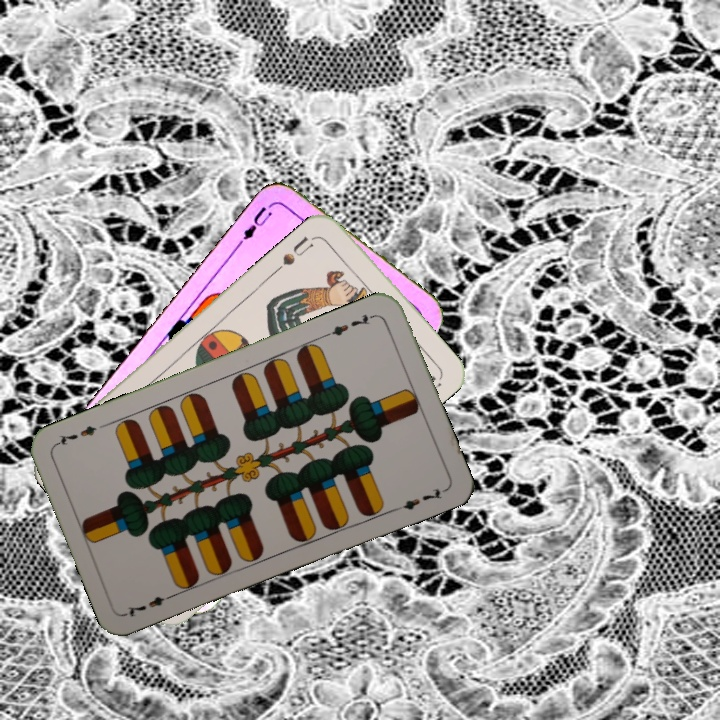E7: (122, 589, 179, 620), (322, 309, 379, 339)
EU: (234, 202, 275, 248)
SU: (278, 232, 316, 269)
